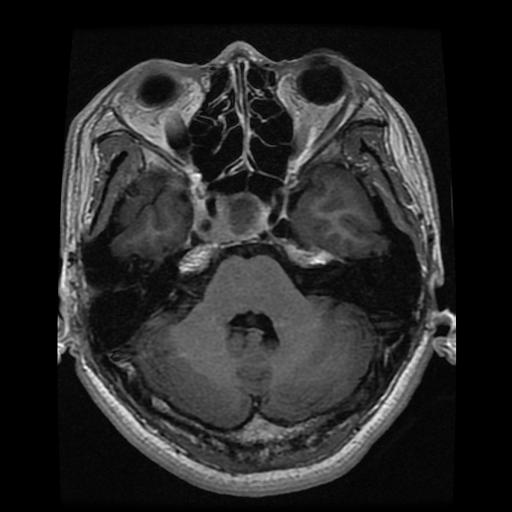Pituirity_tumour: (214, 191, 267, 241)
